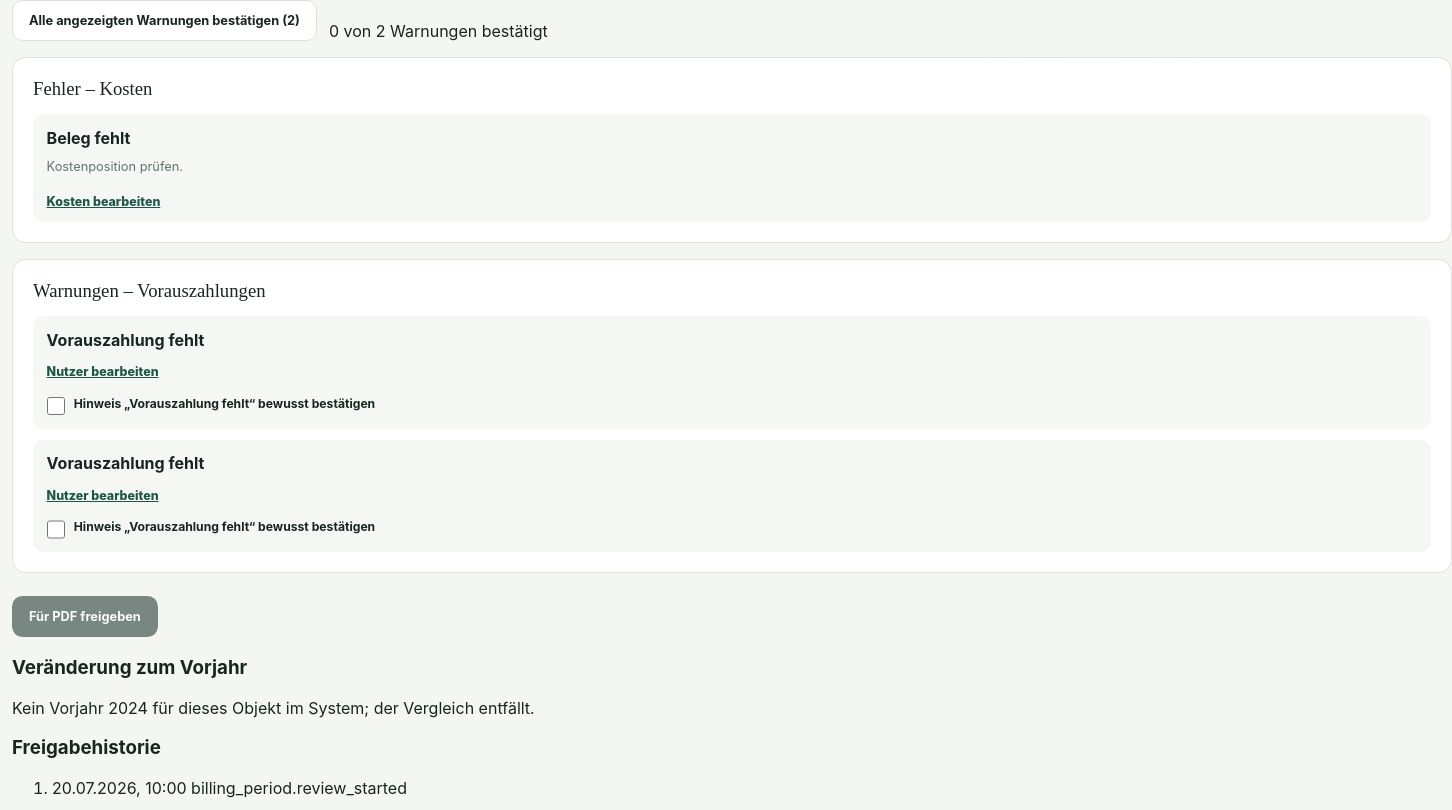
Scenario: ReleaseRoute › prüft beim Bestätigen nicht neu und bestätigt alle Warnungen mit einem Klick
(page scrolled)
Click the 1st checkbox labelled "Hinweis „Vorauszahlung fehlt“ bewusst bestätigen".
click(56, 406)  # box [47,396,65,415]
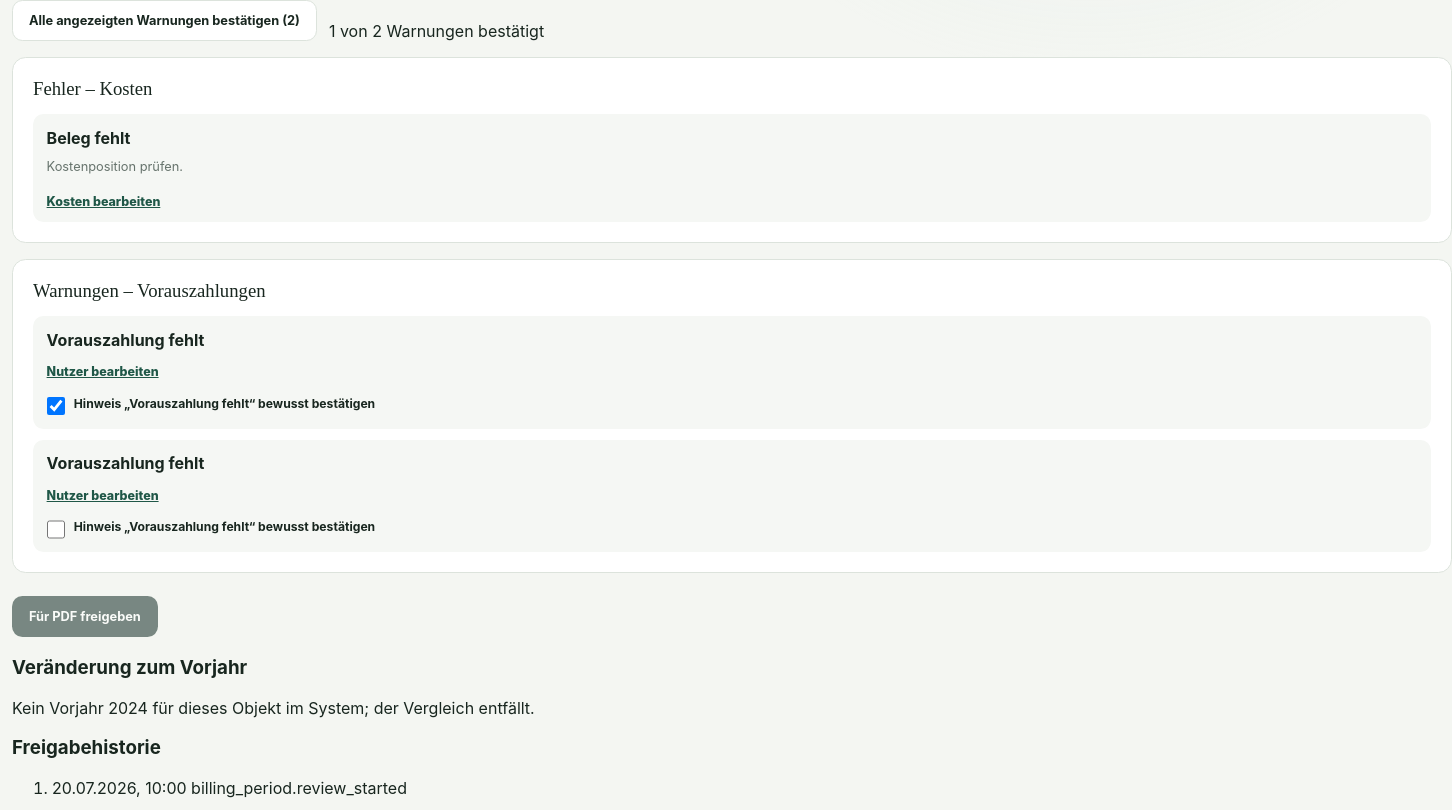
Click the 1st checkbox labelled "Hinweis „Vorauszahlung fehlt“ bewusst bestätigen".
click(56, 406)  # box [47,396,65,415]
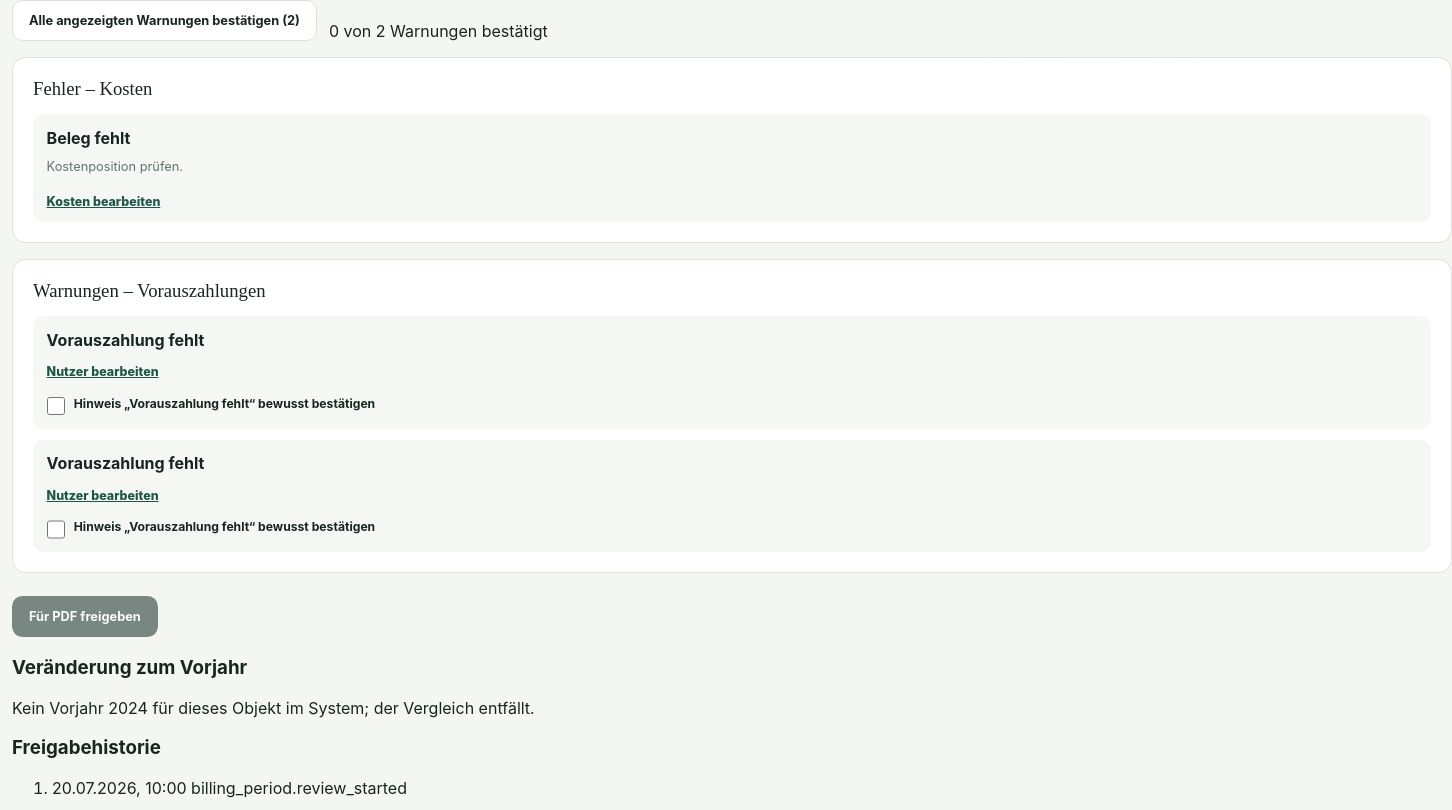
Result: the text "0 von 2 Warnungen bestätigt" is shown at [329,21,548,41]
Click the button "Alle angezeigten Warnungen bestätigen (2)".
click(164, 21)  # box [12,0,317,41]
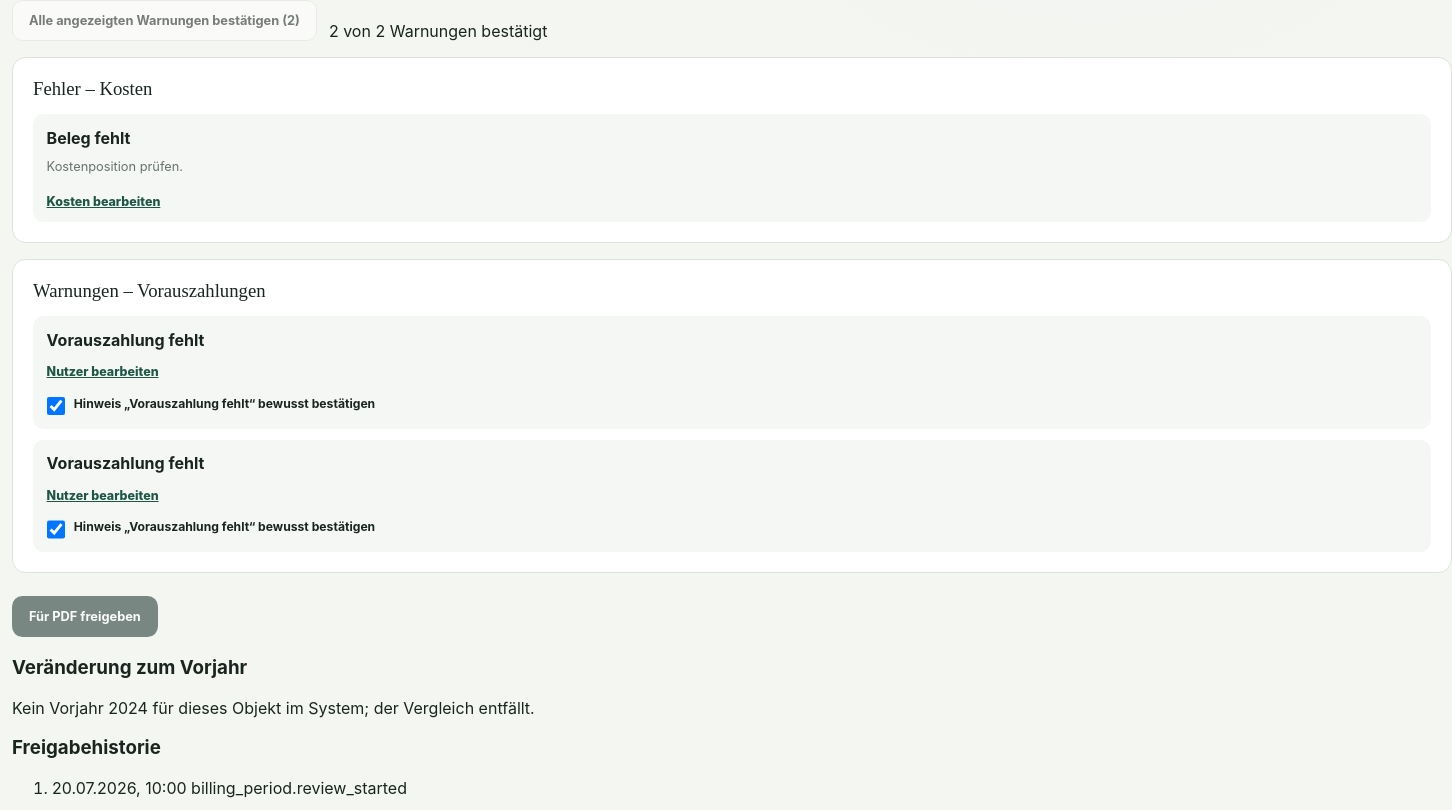
Result: the 1st checkbox labelled "Hinweis „Vorauszahlung fehlt“ bewusst bestätigen" is checked at [47,396,65,415]
Result: the text "2 von 2 Warnungen bestätigt" is shown at [329,21,547,41]
Result: the 2nd checkbox labelled "Hinweis „Vorauszahlung fehlt“ bewusst bestätigen" is checked at [47,520,65,539]
